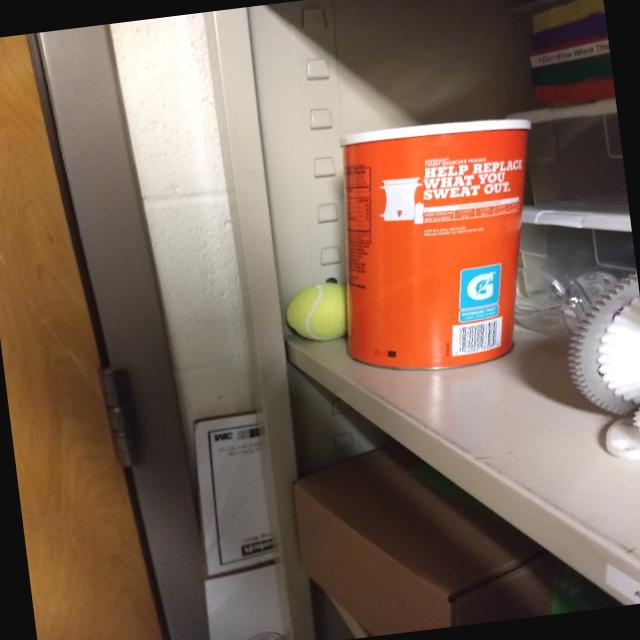Tennis Ball: (283, 274, 358, 344)
